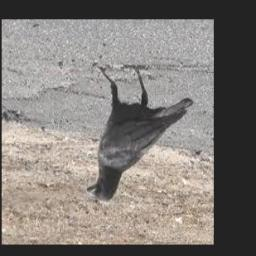Crow: (87, 63, 194, 202)
